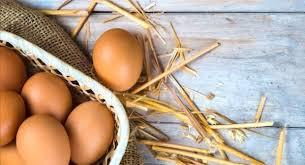egg: (91, 26, 144, 94), (65, 100, 114, 165), (16, 114, 72, 165), (21, 72, 72, 116), (0, 90, 28, 146), (0, 46, 28, 90)
